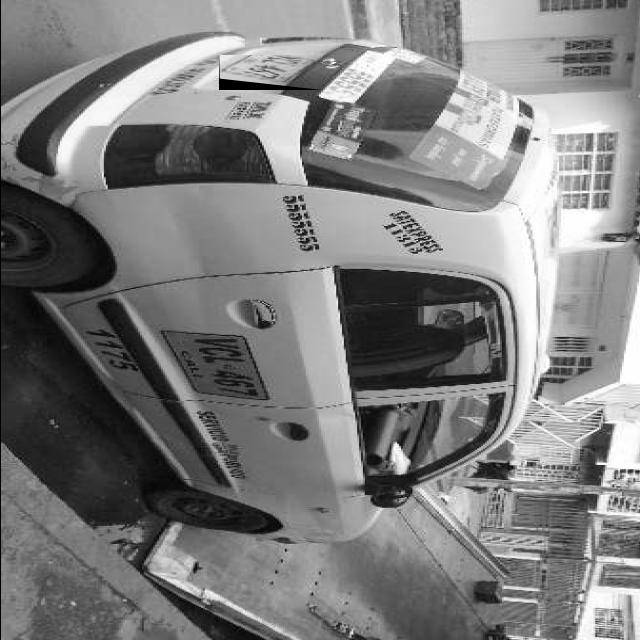plate: (218, 55, 320, 88)
